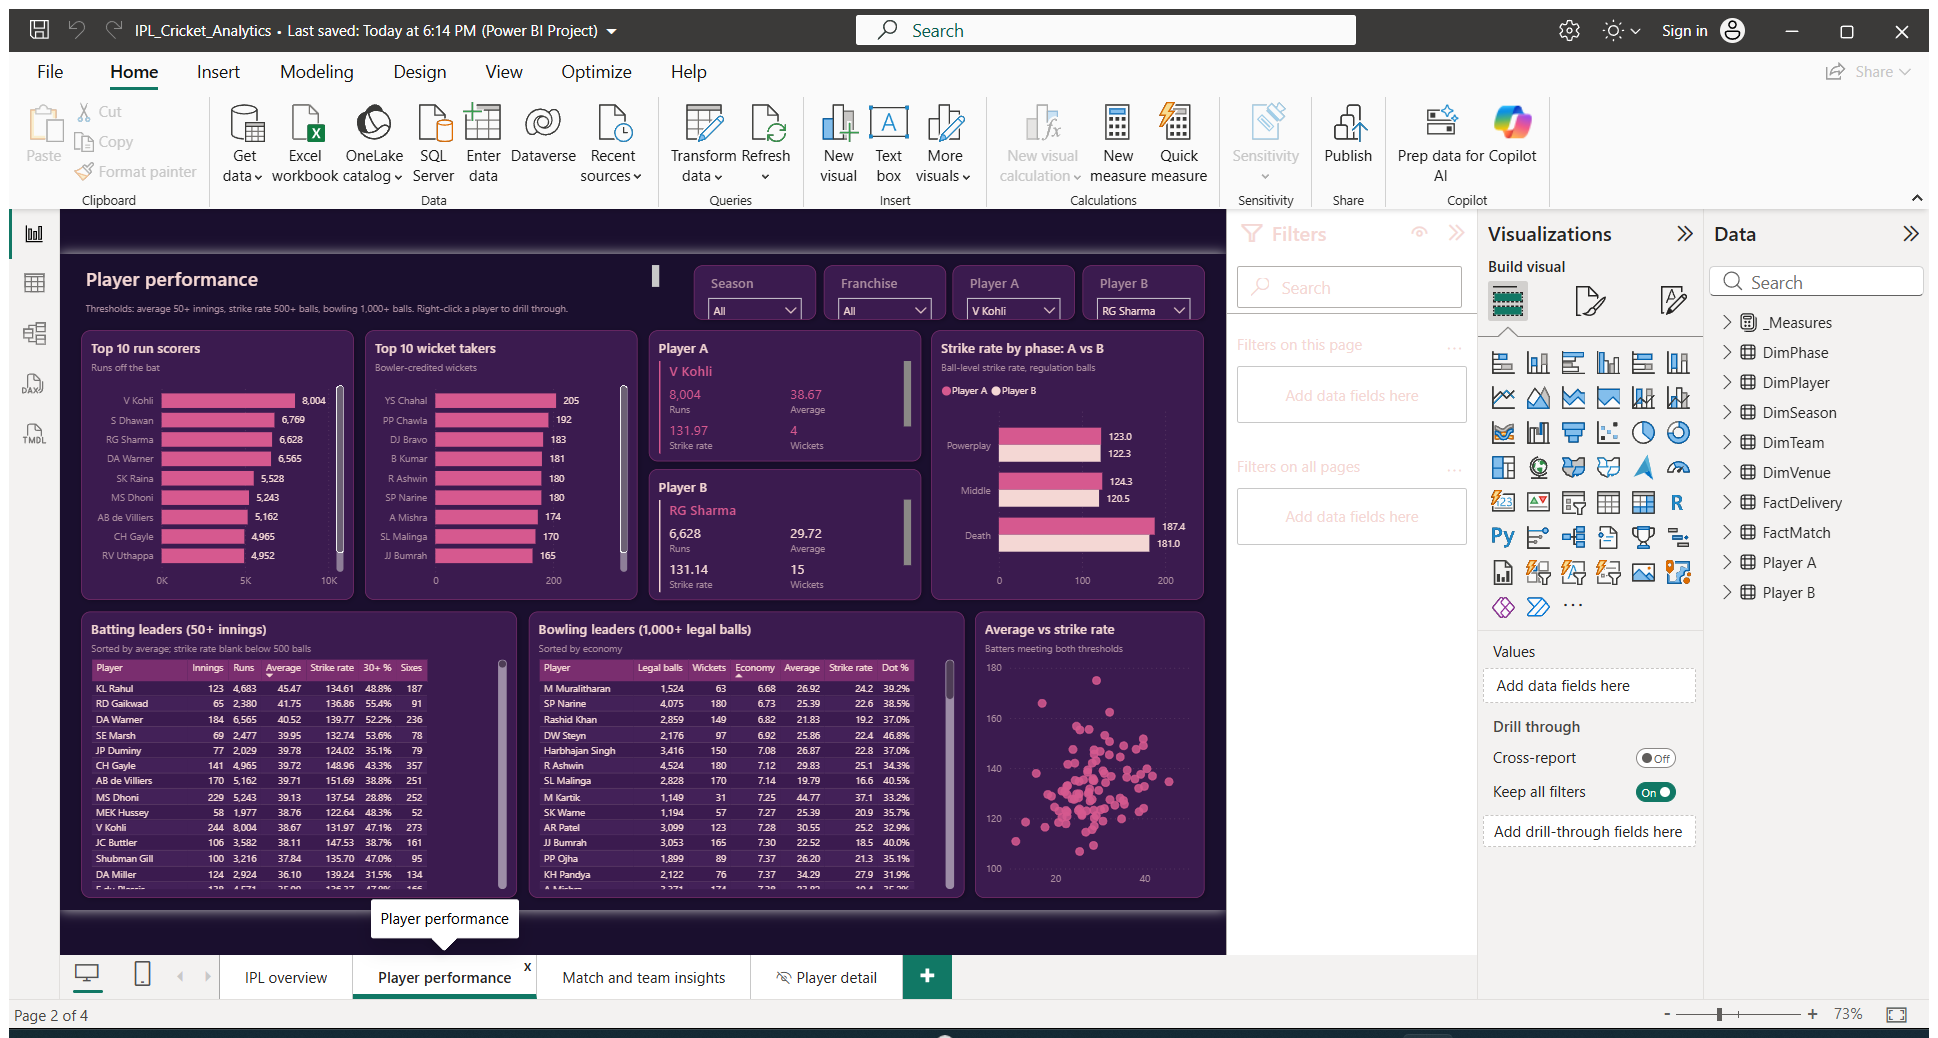

This screenshot's page, from the dashboard's own definition file:
{"tool":"powerbi","page":{"name":"Player performance","canvas":[1280,720],"ordinal":1},"visuals":[{"type":"textbox","box":[18,4,650,42],"z":100},{"type":"textbox","box":[18,42,664,34],"z":200},{"type":"slicer","fields":{"Values":["DimSeason.Season"]},"box":[696,12,134,60],"z":300},{"type":"slicer","fields":{"Values":["DimTeam.Franchise"]},"box":[838,12,134,60],"z":400},{"type":"slicer","fields":{"Values":["Player A.Player A"]},"box":[980,12,134,60],"z":500},{"type":"slicer","fields":{"Values":["Player B.Player B"]},"box":[1122,12,134,60],"z":600},{"type":"clusteredBarChart","title":"Top 10 run scorers","fields":{"Category":["DimPlayer.Player"],"Y":["_Measures.Top 10 Run Scorers"]},"box":[24,84,299,296],"z":700},{"type":"clusteredBarChart","title":"Top 10 wicket takers","fields":{"Category":["DimPlayer.Player"],"Y":["_Measures.Top 10 Wicket Takers"]},"box":[335,84,299,296],"z":800},{"type":"multiRowCard","title":"Player A","fields":{"Values":["_Measures.Player A Name","_Measures.Player A Runs","_Measures.Player A Average","_Measures.Player A Strike Rate","_Measures.Player A Wickets","_Measures.Player A Economy"]},"box":[646,84,299,144],"z":900},{"type":"multiRowCard","title":"Player B","fields":{"Values":["_Measures.Player B Name","_Measures.Player B Runs","_Measures.Player B Average","_Measures.Player B Strike Rate","_Measures.Player B Wickets","_Measures.Player B Economy"]},"box":[646,236,299,144],"z":1000},{"type":"clusteredBarChart","title":"Strike rate by phase: A vs B","fields":{"Category":["DimPhase.Phase"],"Y":["_Measures.Player A Phase SR","_Measures.Player B Phase SR"]},"box":[957,84,299,296],"z":1100},{"type":"tableEx","title":"Batting leaders (50+ innings)","fields":{"Values":["DimPlayer.Player","_Measures.Q Innings","_Measures.Bat Runs","_Measures.Q Batting Average","_Measures.Q Strike Rate","_Measures.Q 30+ Rate","_Measures.Bat Sixes"]},"box":[24,392,478,314],"z":1200},{"type":"tableEx","title":"Bowling leaders (1,000+ legal balls)","fields":{"Values":["DimPlayer.Player","_Measures.Q Legal Balls","_Measures.Q Wickets","_Measures.Q Economy","_Measures.Q Bowling Average","_Measures.Q Bowling Strike Rate","_Measures.Q Dot %"]},"box":[514,392,478,314],"z":1300},{"type":"scatterChart","title":"Average vs strike rate","fields":{"Category":["DimPlayer.Player"],"X":["_Measures.Q Batting Average"],"Y":["_Measures.Q Strike Rate"]},"box":[1004,392,252,314],"z":1400}]}

Visuals, with their boxes on the page's 1280x720 design canvas (x1, y1, x2, y2). These are canvas units, not pixel positions in the 1938x1038 screenshot, which may show the page scaled, cropped or inside an application window:
textbox: 18,4,668,46
textbox: 18,42,682,76
slicer - DimSeason.Season: 696,12,830,72
slicer - DimTeam.Franchise: 838,12,972,72
slicer - Player A.Player A: 980,12,1114,72
slicer - Player B.Player B: 1122,12,1256,72
"Top 10 run scorers" clusteredBarChart: 24,84,323,380
"Top 10 wicket takers" clusteredBarChart: 335,84,634,380
"Player A" multiRowCard: 646,84,945,228
"Player B" multiRowCard: 646,236,945,380
"Strike rate by phase: A vs B" clusteredBarChart: 957,84,1256,380
"Batting leaders (50+ innings)" tableEx: 24,392,502,706
"Bowling leaders (1,000+ legal balls)" tableEx: 514,392,992,706
"Average vs strike rate" scatterChart: 1004,392,1256,706
